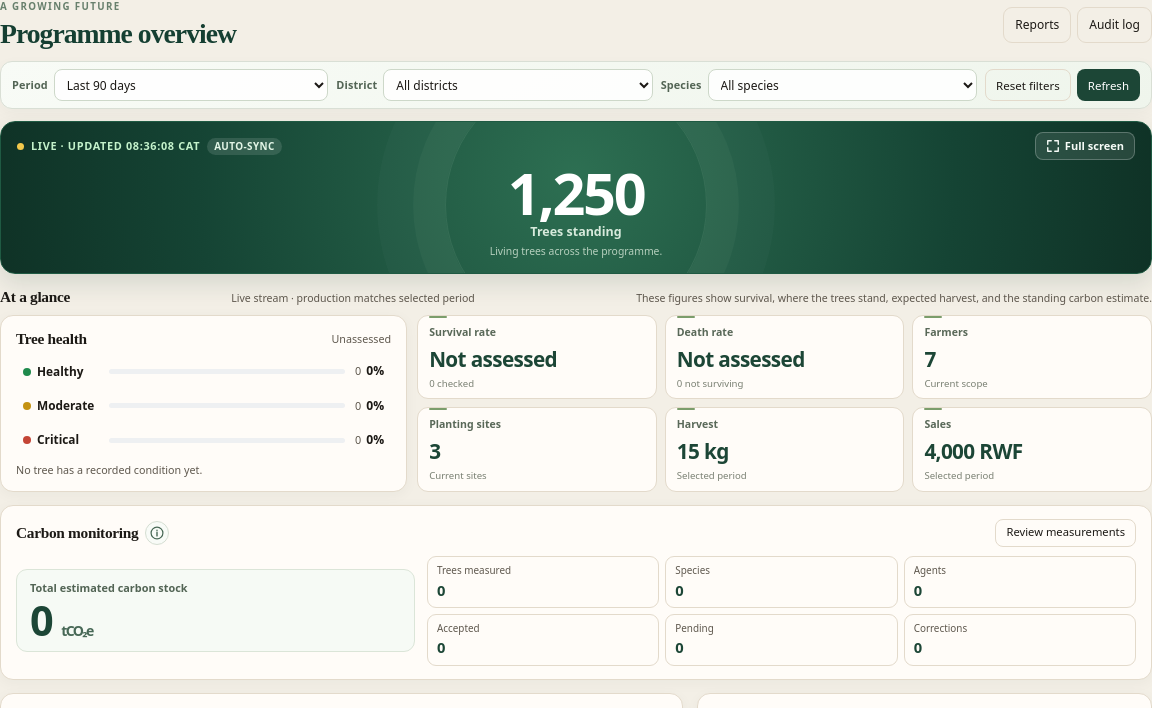
Test: dashboard requests and role behavior › opens and exits full-screen tree count projection and renders compact interactive panels
The image size is (1152, 708).
Expected: the text "1,250" is shown, [508, 166, 644, 221]
// Open and exit full-screen projection stage
Click the button with aria-label "Open full-screen projection" at (1085, 146), box [1035, 132, 1135, 160]
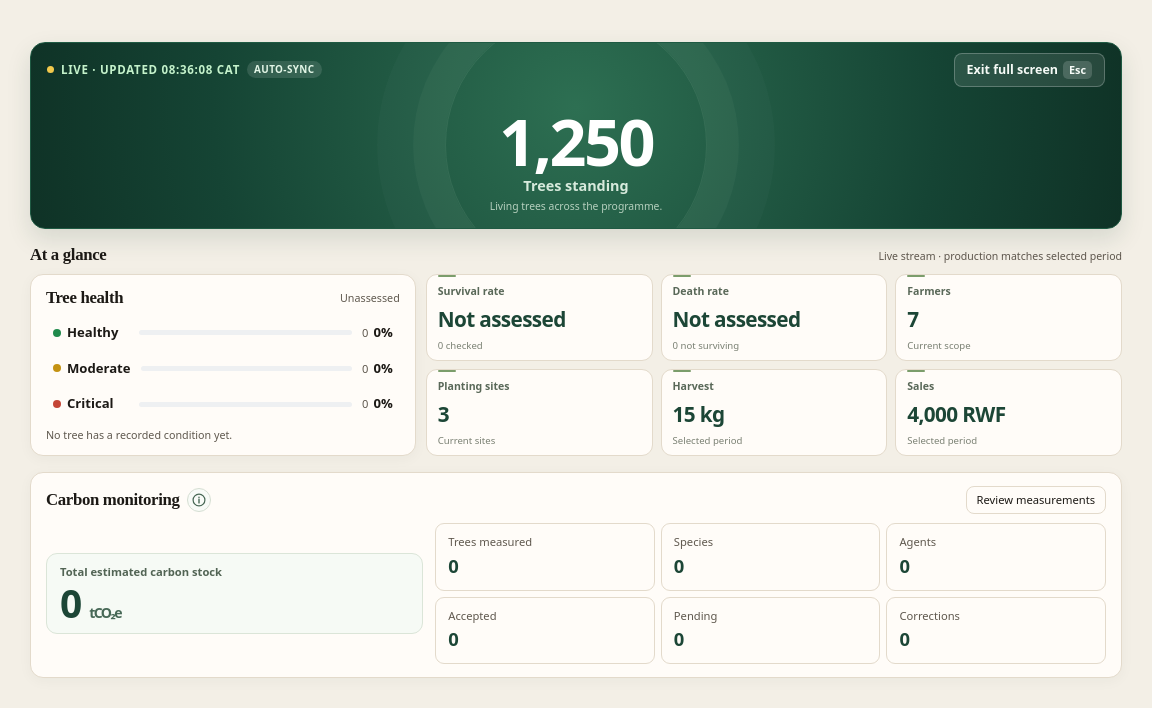
Expected: the text "Trees standing" is shown, [523, 175, 629, 196]
Expected: the text "Survival rate" is shown, [438, 284, 504, 298]
Expected: the heading "Tree health" is shown, [46, 288, 123, 309]
Click the button "Exit full screen Esc" at (1029, 70), box [954, 53, 1105, 87]
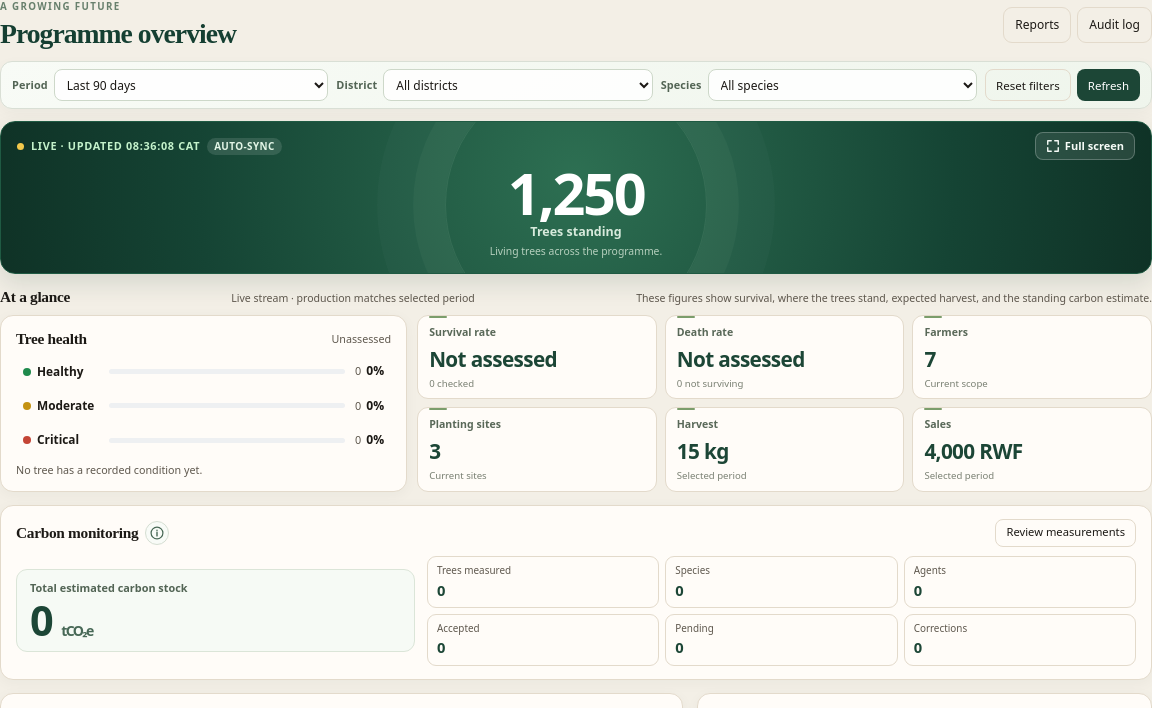
// Compact carbon info icon toggle
Click the button named "Carbon monitoring details" at (157, 533), box [145, 521, 169, 545]
(page scrolled)
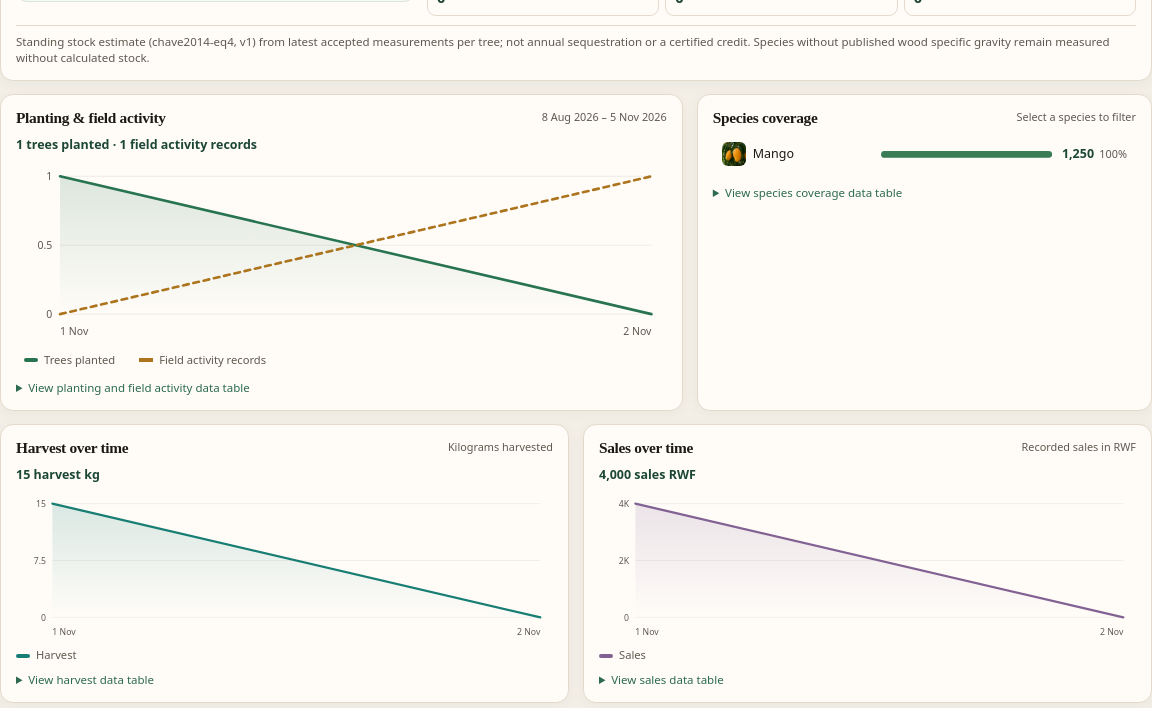
Expected: the text "Standing stock estimate" is shown, [16, 34, 152, 49]
Click the button "Trees planted" at (70, 360), box [16, 349, 123, 372]
(page scrolled)
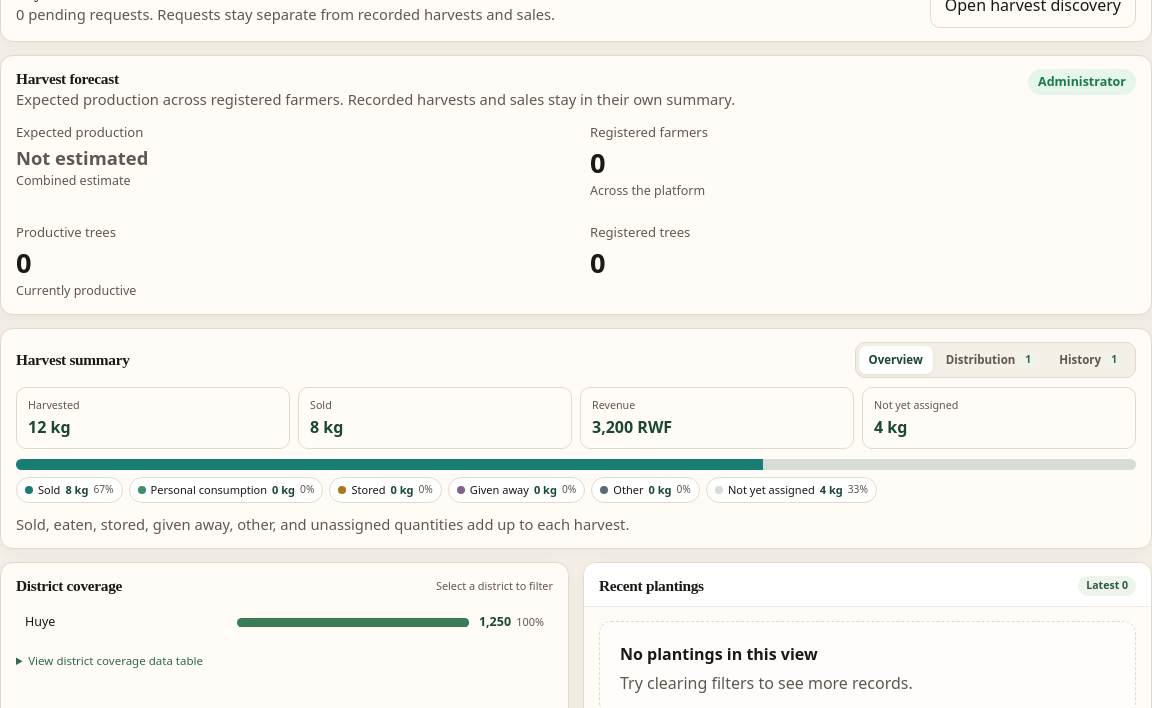
// Tabbed harvest summary switching
Click the tab "Distribution 1" at (991, 360), box [936, 346, 1046, 374]
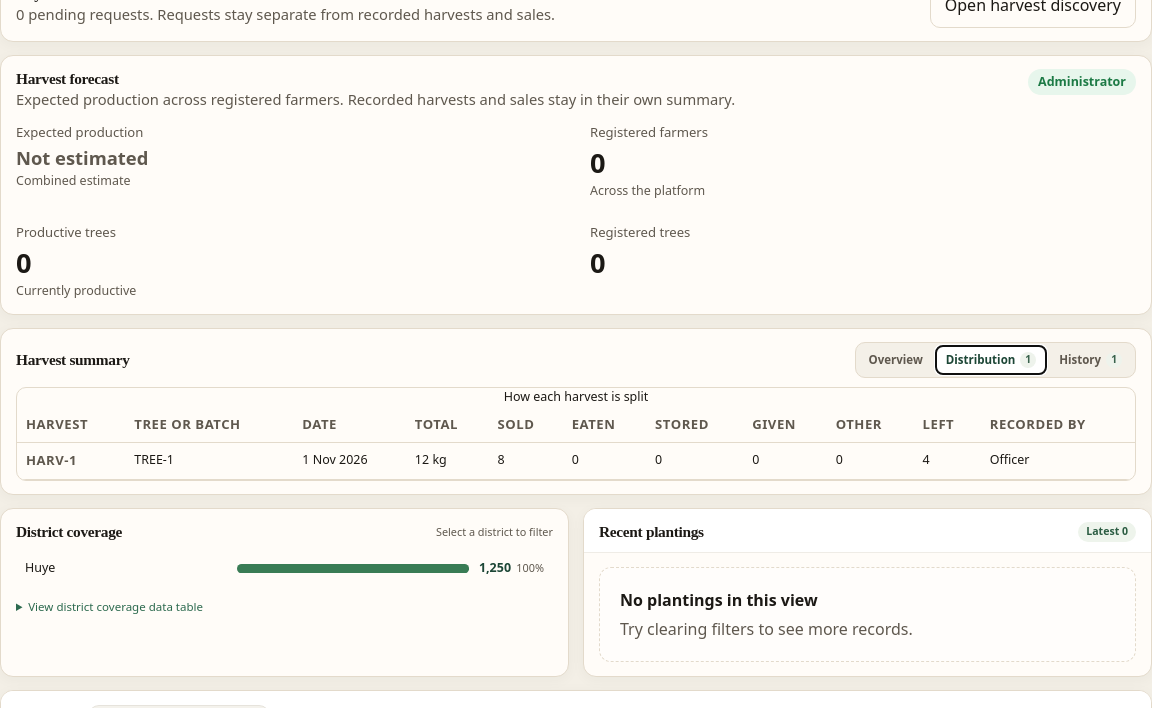
Expected: the table "How each harvest is split" is shown, [17, 388, 1135, 480]
Click the tab "History 1" at (1091, 360), box [1049, 346, 1132, 374]
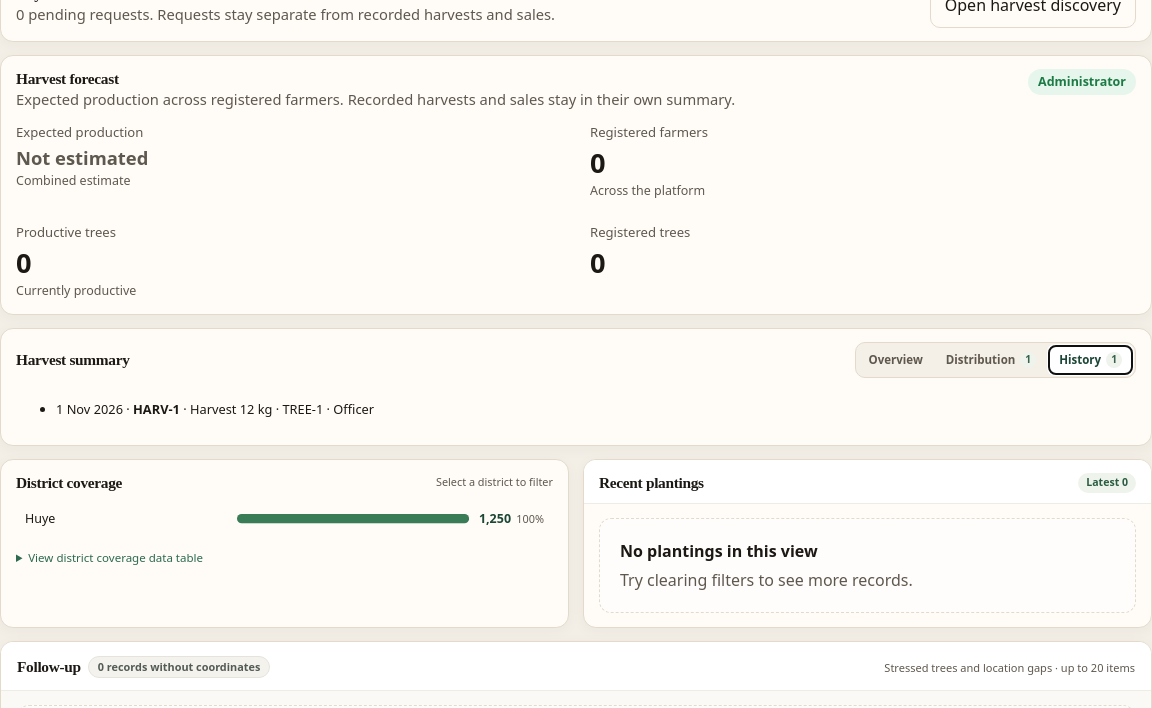
Expected: the list item "1 Nov 2026 · HARV-1 · Harvest 12 kg · TREE-1 · Officer" is shown, [56, 400, 374, 418]
